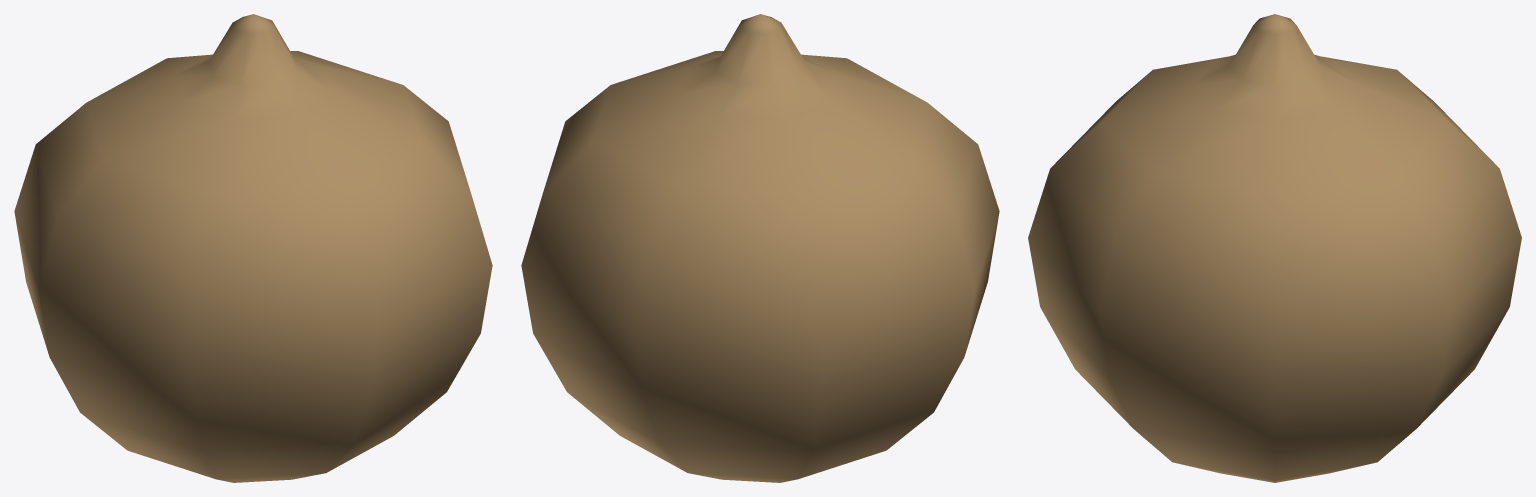
The model's file is Onion.fbx.
3 renders of one model, left to right at view 1: azimuth 30°, elevation 25°; view 2: azimuth 150°, elevation 25°; view 3: azimuth 270°, elevation 25°, orthographic.
Visible parts, largest first — view 1: Onion; view 2: Onion; view 3: Onion.
Part boxes in pixels (bbox=[...]): Onion: bbox=[14, 14, 492, 482]; Onion: bbox=[521, 14, 999, 482]; Onion: bbox=[1028, 14, 1521, 482].
Size of the model in its own units: 75 by 75 by 75.
